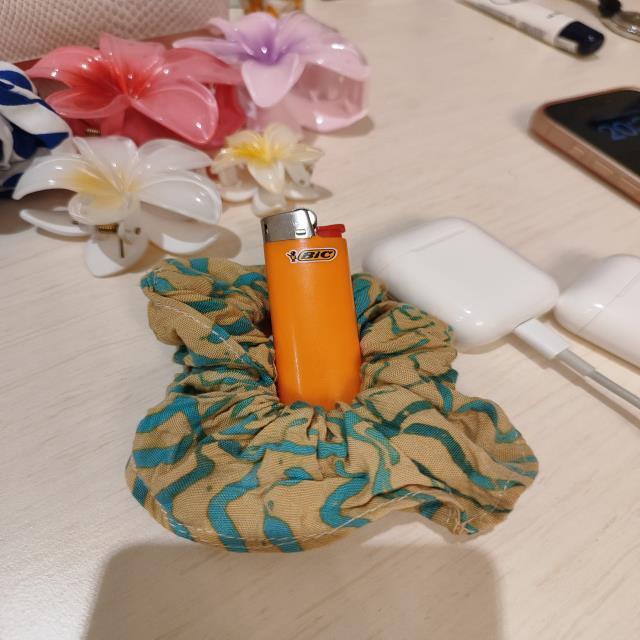lighter: (261, 208, 360, 408)
